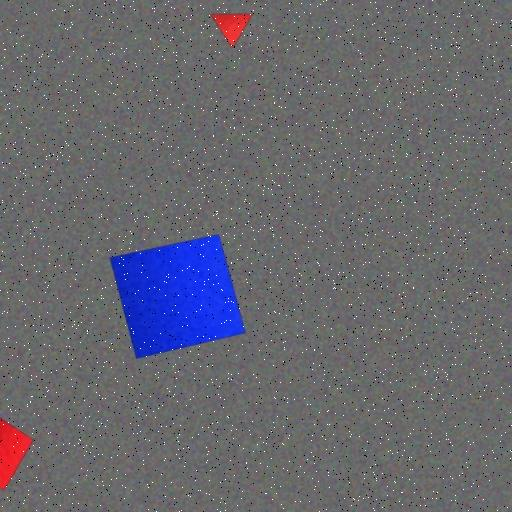BLUE_SQUARE: (110, 234, 246, 359)
RED_SQUARE: (0, 409, 34, 491)
